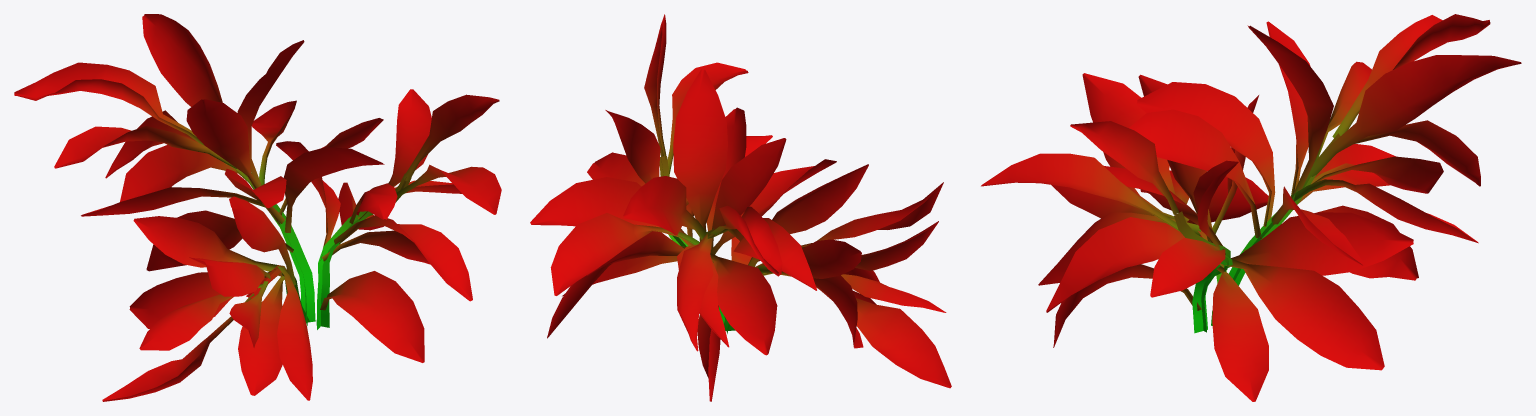
The model's file is FBX_Plant_3D_012.fbx.
3 renders of one model, left to right at view 1: azimuth 30°, elevation 25°; view 2: azimuth 150°, elevation 25°; view 3: azimuth 270°, elevation 25°, orthographic. The views are drawn at different scales.
Parts seen in each view (by area): view 1: Var4_LOD1; view 2: Var4_LOD1; view 3: Var4_LOD1.
Boxes of the visible parts, bbox=[...] form: Var4_LOD1: bbox=[14, 14, 501, 401]; Var4_LOD1: bbox=[530, 14, 951, 401]; Var4_LOD1: bbox=[981, 14, 1521, 401].
Size of the model in its own units: 105 by 75.62 by 113.
